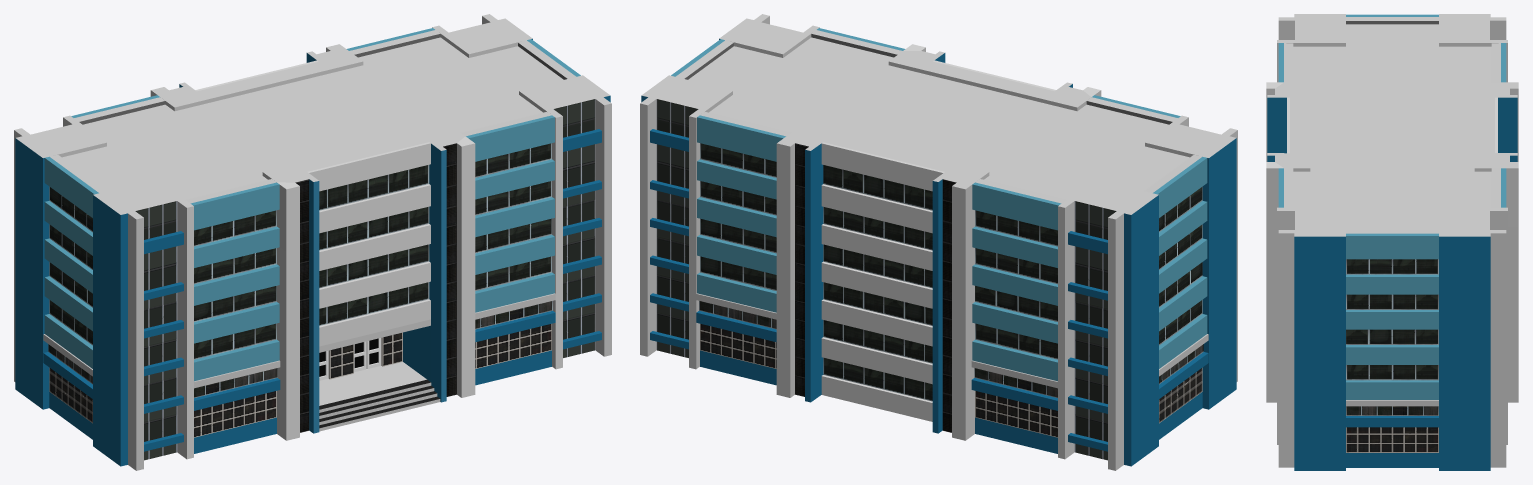
3 views of the same model, side by side, from view 1: azimuth 30°, elevation 25°; view 2: azimuth 150°, elevation 25°; view 3: azimuth 270°, elevation 25° (orthographic). The views are drawn at different scales.
Visible parts, largest first — view 1: Building; view 2: Building; view 3: Building.
Part boxes in pixels (box(x1,y1,x2,y2)): Building: box(14, 14, 611, 470); Building: box(640, 14, 1237, 470); Building: box(1266, 14, 1518, 470).
Size of what is drawn, in the model's own units: 40.78 by 20 by 19.55.
